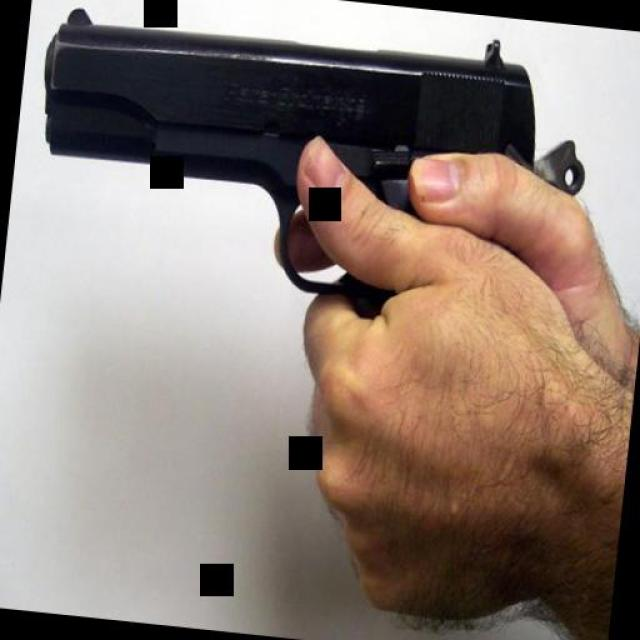gun: (18, 0, 622, 350)
